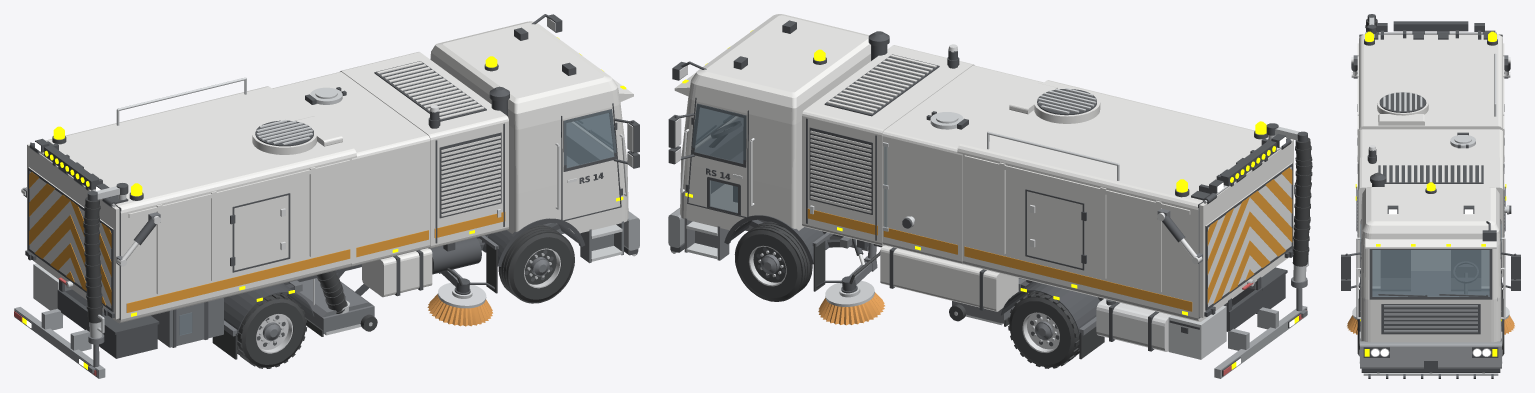
File: Vacuum_Road_Sweeper.glb
The picture shows the model from 3 angles, left to right: view 1: azimuth 30°, elevation 25°; view 2: azimuth 150°, elevation 25°; view 3: azimuth 270°, elevation 25°; orthographic projection. The views are drawn at different scales.
Visible parts, largest first — view 1: cab, tie_rod, tyres, wheel_hubs, side_stripes, tool_box, hydraulic_tank_gauge, grille_slats, fuel_tank, broom_bristles, wheel_rims, side_markers; view 2: cab, tie_rod, tyres, side_stripes, tool_box, wheel_hubs, fuel_tank, hydraulic_tank_gauge, grille_slats, broom_bristles, wheel_rims, side_markers; view 3: cab, tie_rod, hydraulic_tank_gauge, grille_slats, tool_box, wheel_hubs, fuel_tank, side_markers, tyres, headlights, broom_bristles, wheel_nuts.
Boxes of the visible parts, x1,y1,x2,y2 form: cab: [27, 21, 633, 323]; tie_rod: [14, 14, 639, 376]; tyres: [83, 197, 574, 368]; wheel_hubs: [23, 122, 623, 373]; side_stripes: [29, 172, 505, 312]; tool_box: [33, 77, 636, 338]; hydraulic_tank_gauge: [179, 109, 616, 335]; grille_slats: [14, 211, 639, 378]; fuel_tank: [21, 18, 633, 266]; broom_bristles: [427, 294, 492, 326]; wheel_rims: [256, 248, 560, 353]; side_markers: [22, 37, 626, 369]; cab: [674, 14, 1293, 321]; tie_rod: [668, 20, 1307, 376]; tyres: [734, 137, 1312, 368]; side_stripes: [807, 167, 1292, 311]; tool_box: [671, 88, 1308, 359]; wheel_hubs: [684, 117, 1307, 340]; fuel_tank: [675, 44, 1295, 351]; hydraulic_tank_gauge: [692, 104, 887, 227]; grille_slats: [668, 208, 1307, 378]; broom_bristles: [818, 292, 884, 325]; wheel_rims: [749, 245, 1059, 352]; side_markers: [682, 30, 1298, 369]; cab: [1357, 34, 1504, 342]; tie_rod: [1341, 14, 1520, 378]; hydraulic_tank_gauge: [1360, 224, 1501, 296]; grille_slats: [1360, 305, 1501, 368]; tool_box: [1352, 17, 1509, 375]; wheel_hubs: [1353, 55, 1508, 341]; fuel_tank: [1351, 57, 1510, 356]; side_markers: [1355, 31, 1506, 356]; tyres: [1357, 19, 1504, 356]; headlights: [1371, 209, 1490, 356]; broom_bristles: [1347, 315, 1514, 334]; wheel_nuts: [1365, 32, 1496, 34].
Size of the model in its own units: 173 by 64.15 by 61.39.
